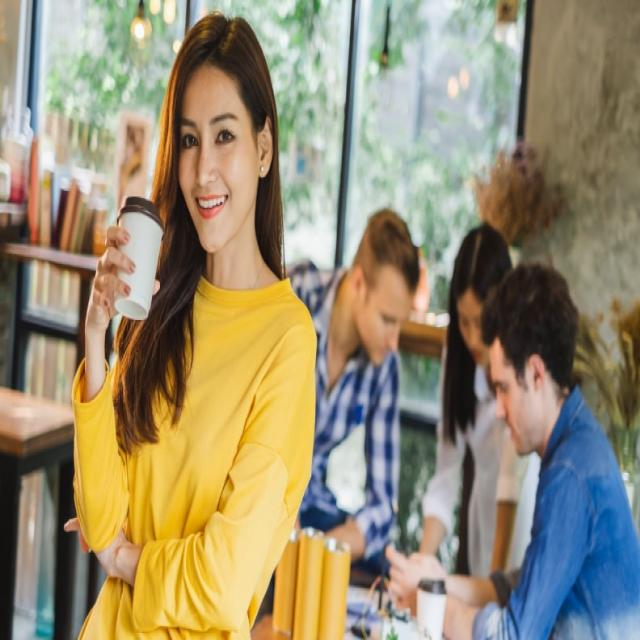adult: (63, 10, 318, 640), (481, 259, 639, 640), (286, 210, 419, 556), (417, 222, 534, 585)
